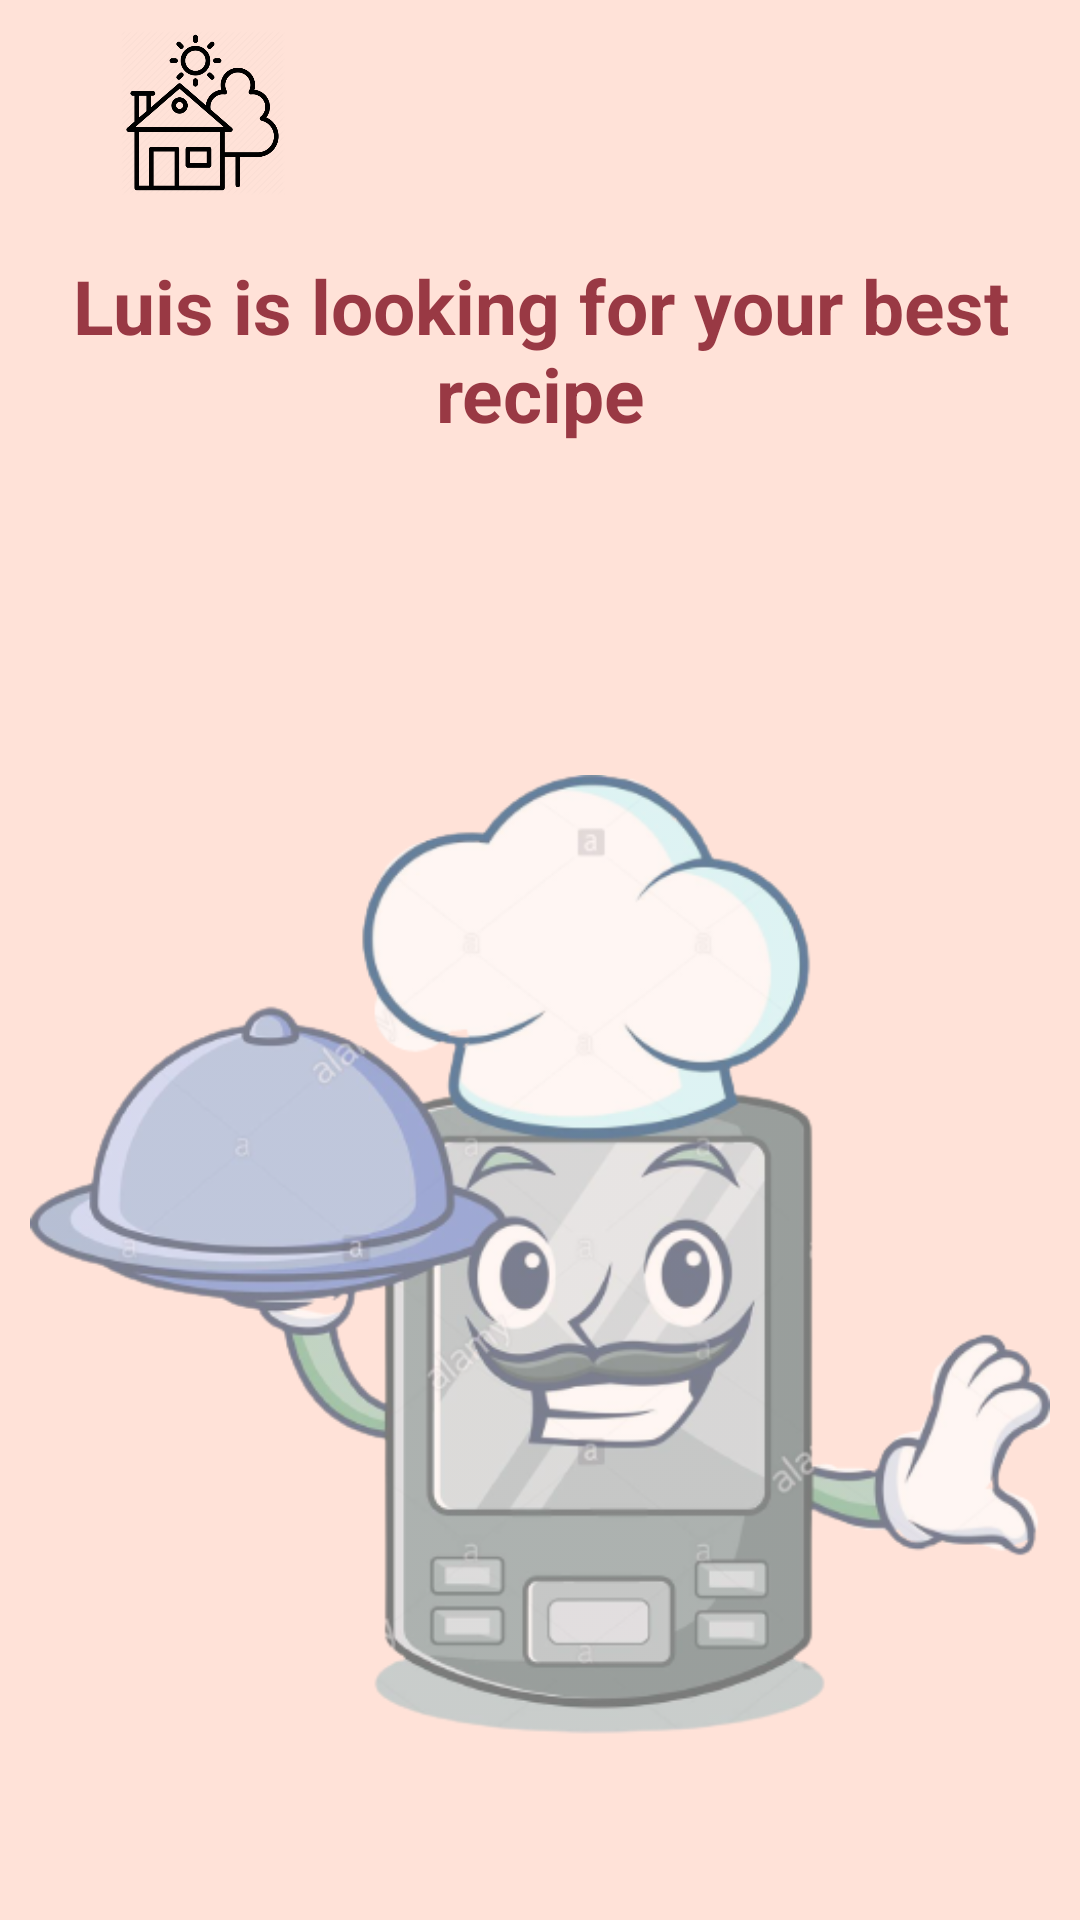

Screen size 1080px×1920px. Icon name, then its box in pixels as detection(x1, y1, x2, y2):
house: detection(126, 34, 279, 191)
